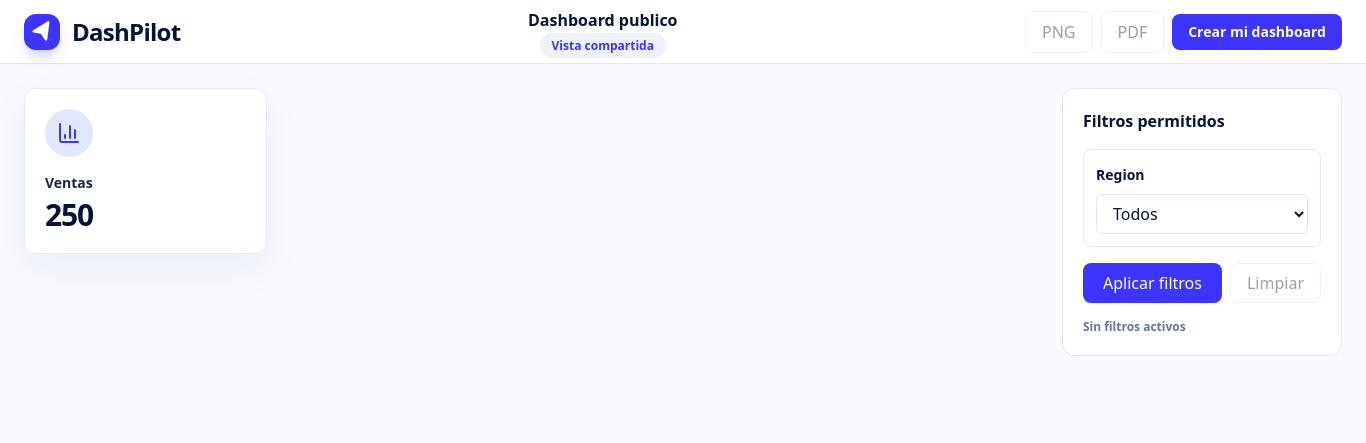
PublicSharePage filters › shows a clear error without breaking the dashboard when a filtered load fails
The image size is (1366, 443).
Select "RM" in the dropdown labelled "Region". click: (1202, 214)
box: [1096,194,1308,234]
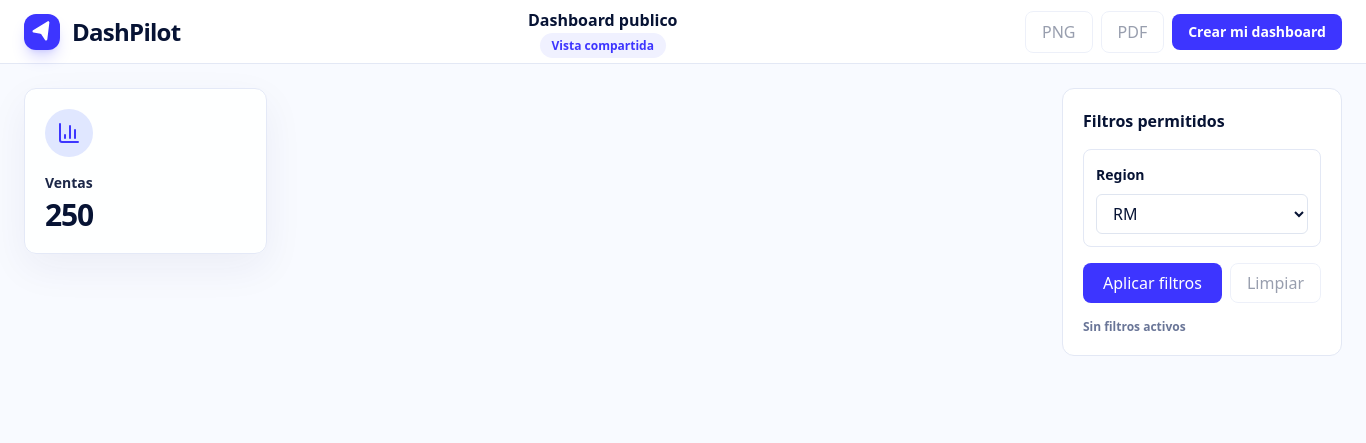
Click the button "Aplicar filtros". click: (1152, 283)
box: [1083,263,1222,303]
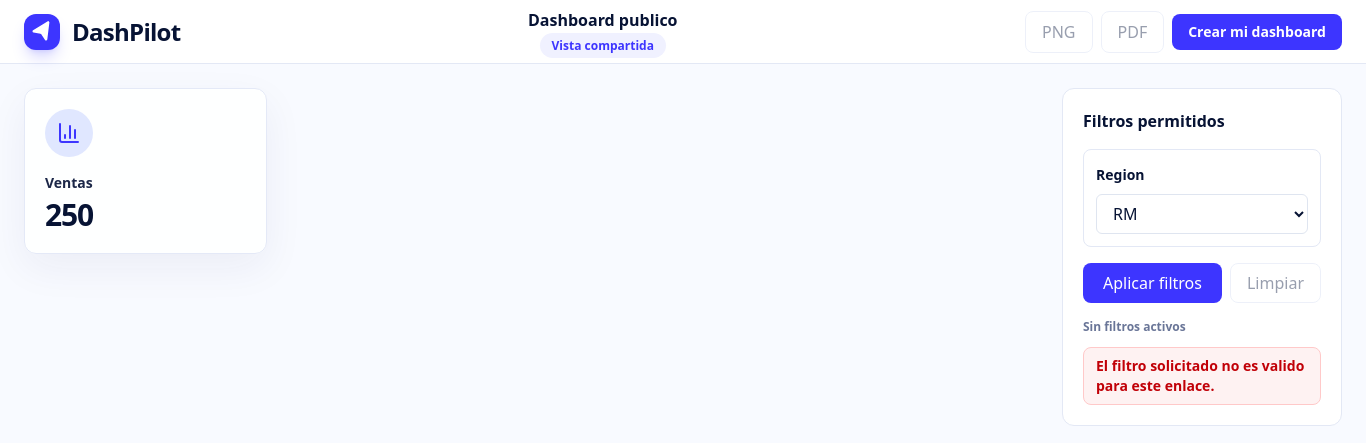
Expected: the text "Dashboard publico" is shown, [528,8,678,32]
Result: the text "El filtro solicitado no es valido para este enlace." is shown at [1083,347,1321,405]
